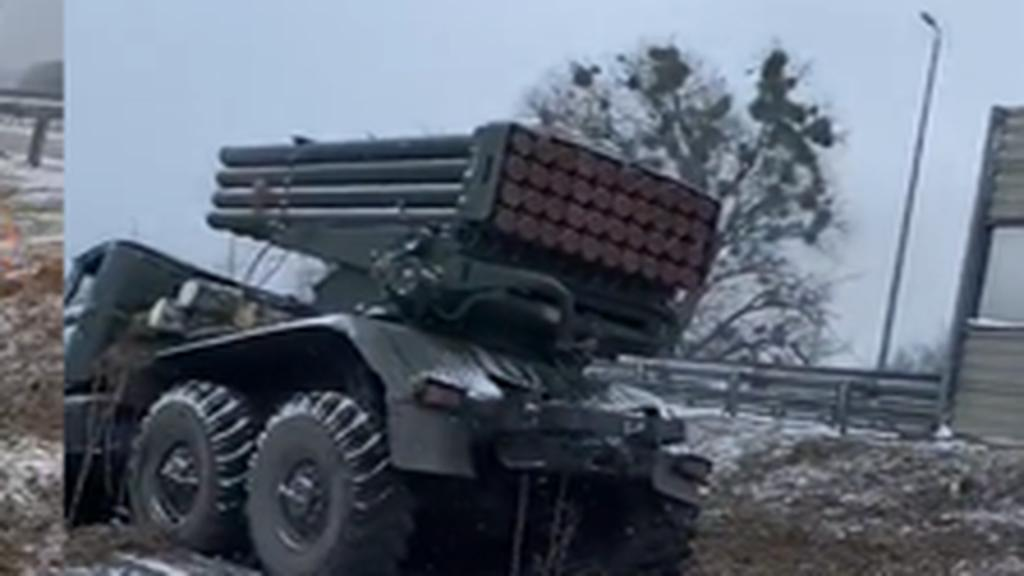MLRS: (66, 112, 730, 572)
